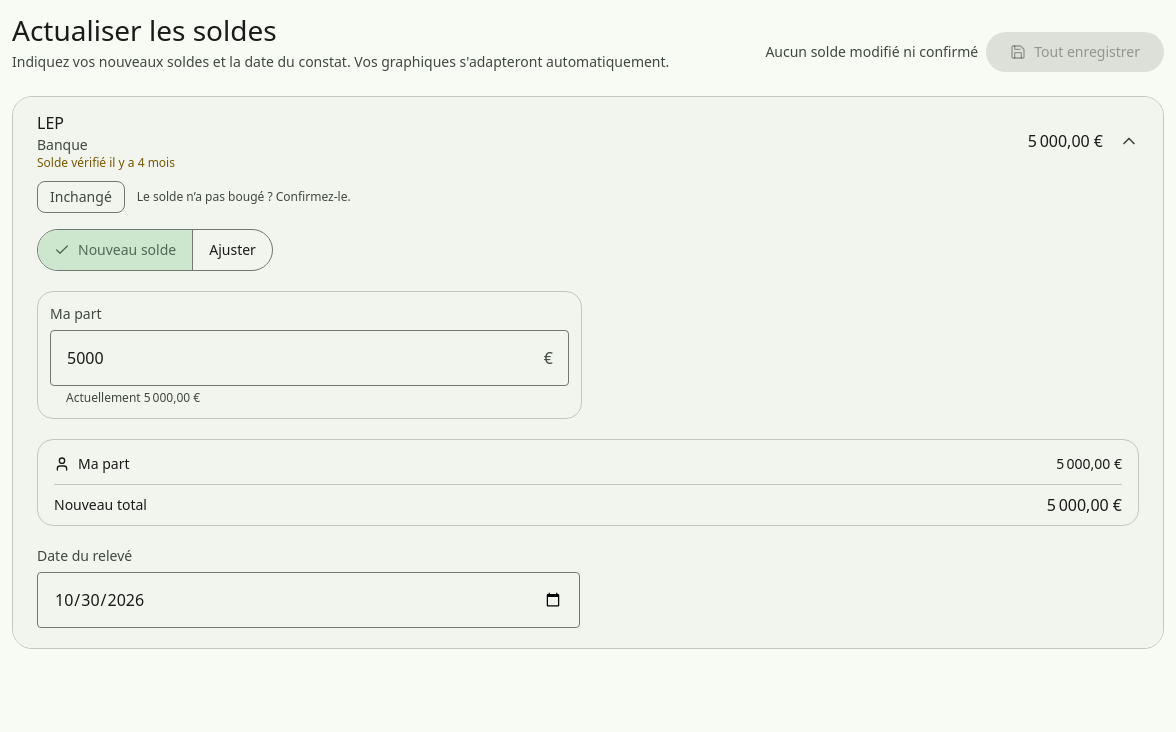
Test: Actualiser : « Inchangé » › « Inchangé » retiré ou saisie d’un nouveau solde : plus de confirmation seule
Click the button with aria-label "Solde de LEP inchangé" at (81, 197), box [37,181,125,213]
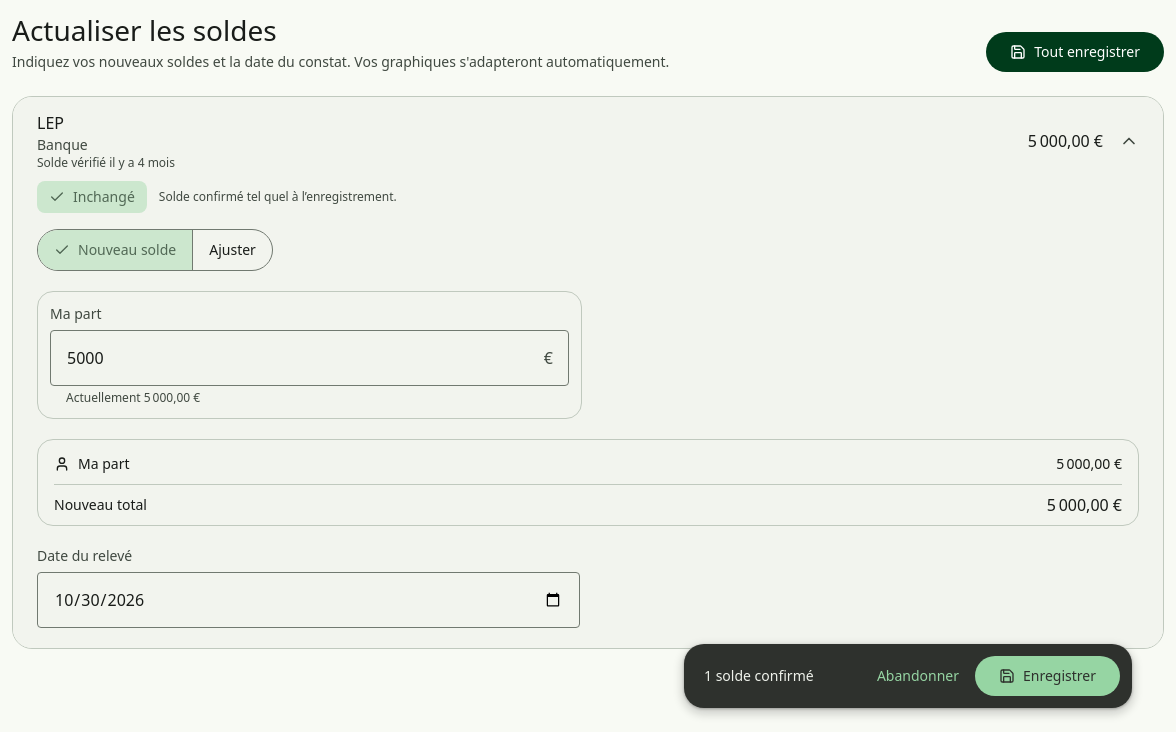
Click the button with aria-label "Solde de LEP inchangé" at (92, 197), box [37,181,147,213]
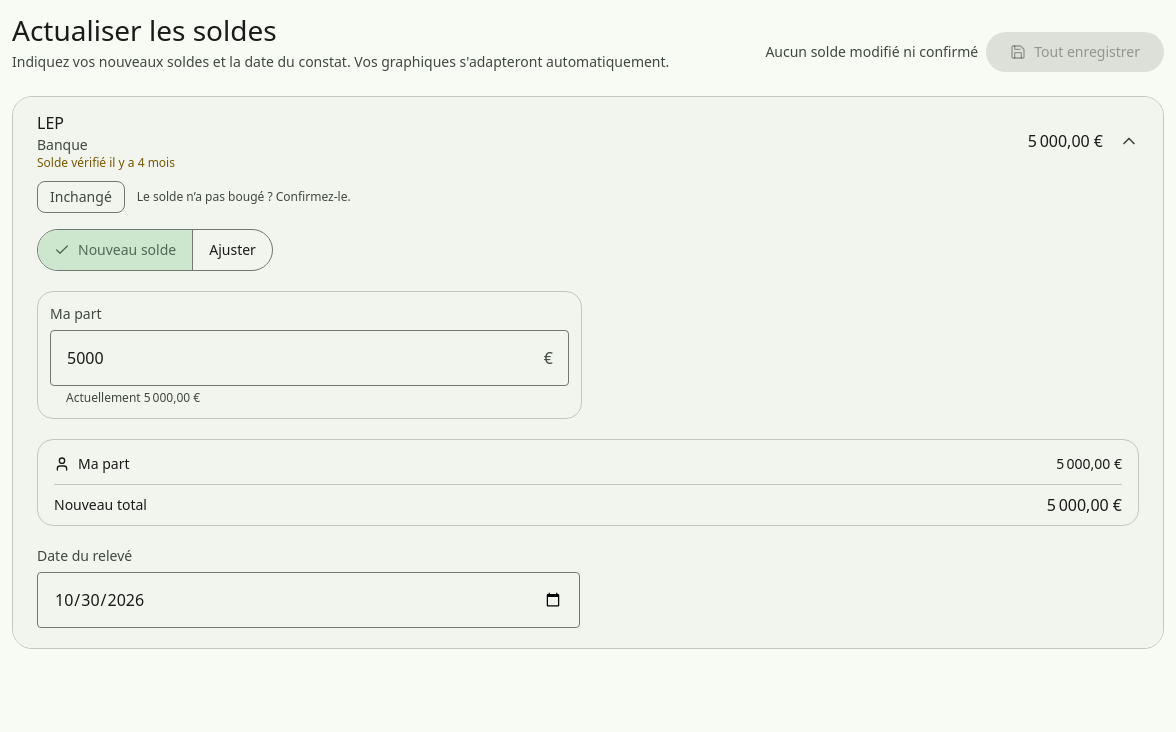
Check: the text "1 solde confirmé" is gone
Click the button with aria-label "Solde de LEP inchangé" at (81, 197), box [37,181,125,213]
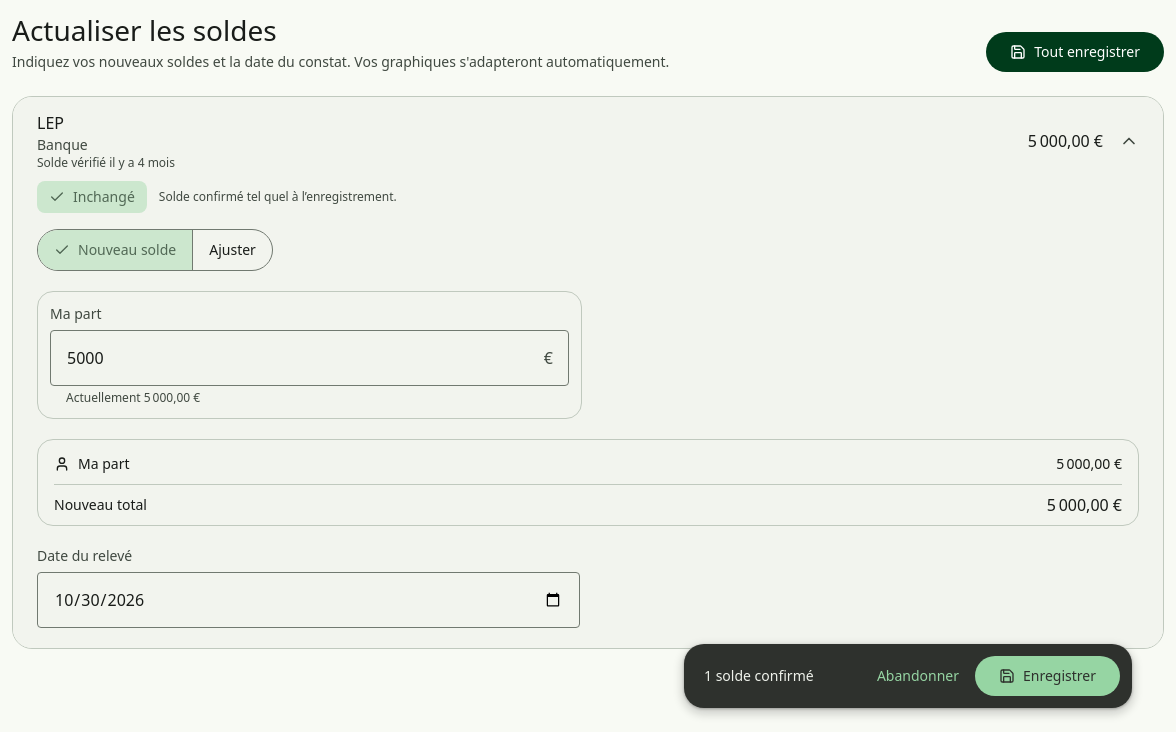
// Un seul compte : la ligne est déjà dépliée.
Replace the text in the field named "Ma part sur LEP" with "5100" at (310, 358), box [50,330,569,386]
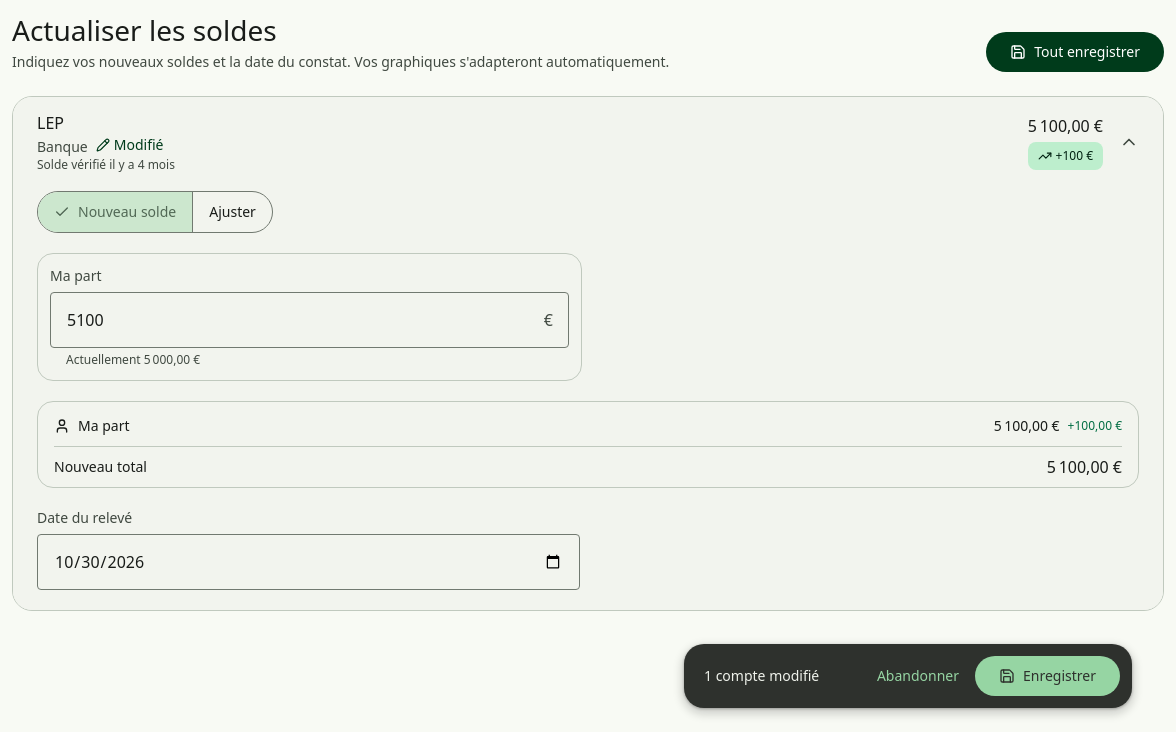
Check: the text "1 compte modifié" is shown, box [704,666,819,686]
